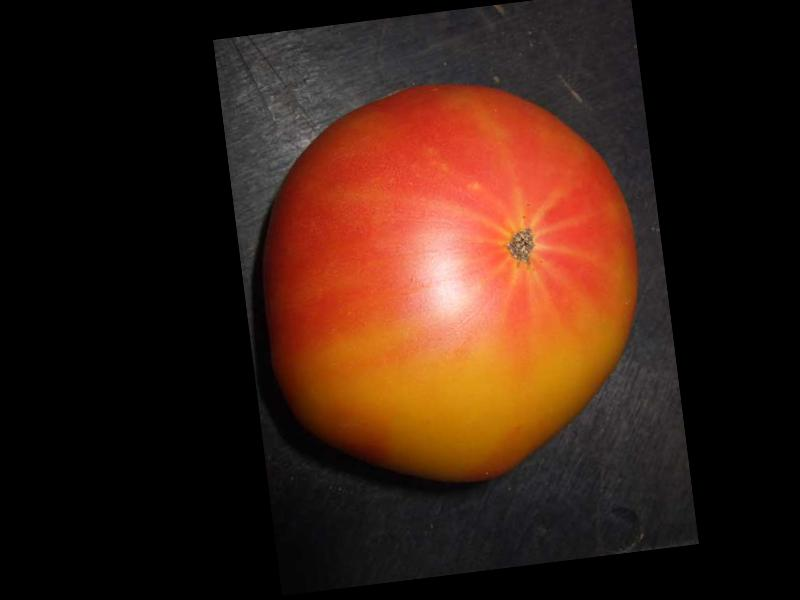Tomato: (237, 62, 661, 499)
